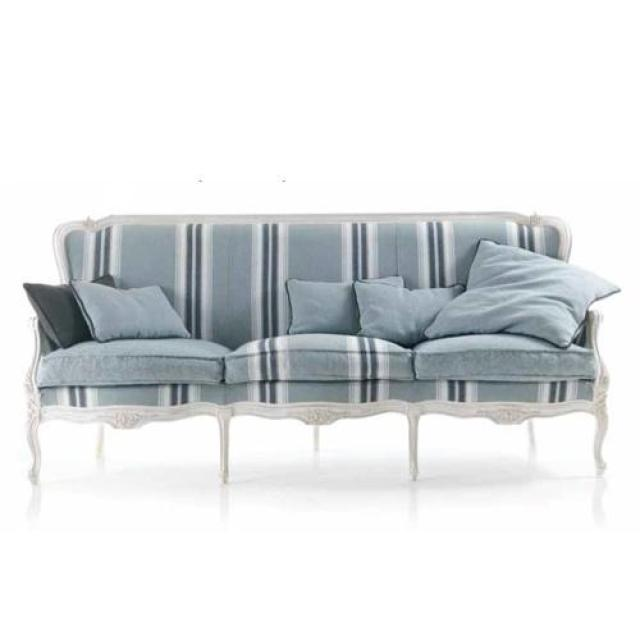sofa: (25, 208, 621, 486)
